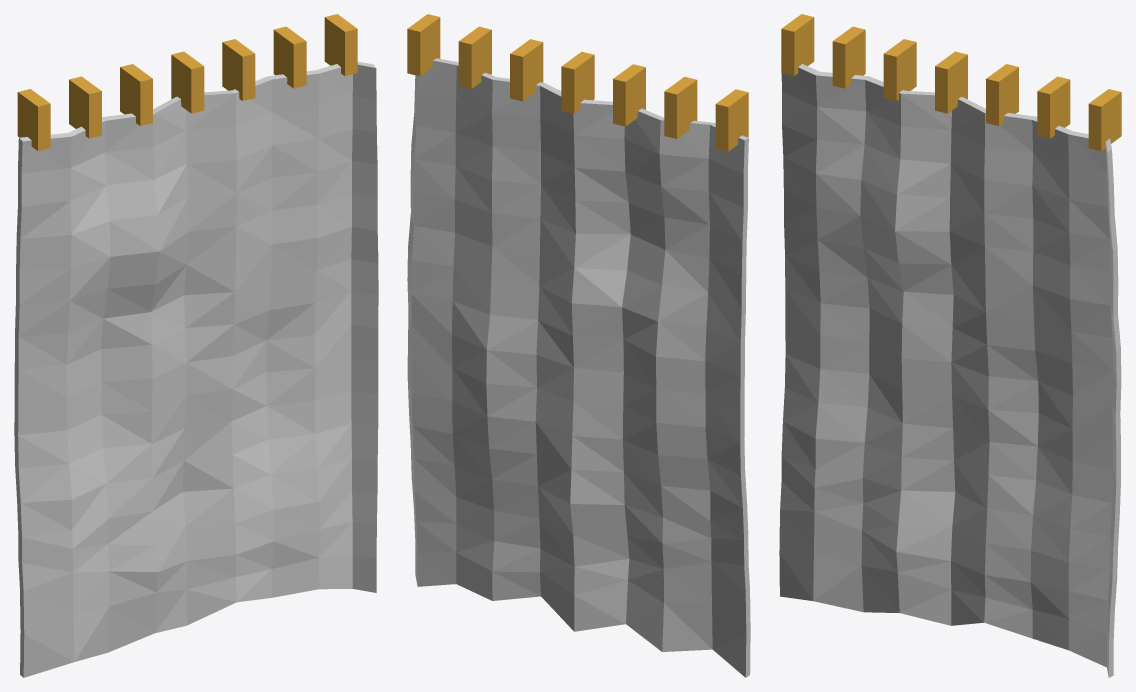
The model's file is curtain1.fbx.
3 renders of one model, left to right at view 1: azimuth 30°, elevation 25°; view 2: azimuth 150°, elevation 25°; view 3: azimuth 330°, elevation 25°, orthographic.
Visible parts, largest first — view 1: Cube.099; view 2: Cube.099; view 3: Cube.099.
Part boxes in pixels (<box>): Cube.099: <box>14,14,378,677</box>; Cube.099: <box>407,14,750,677</box>; Cube.099: <box>779,14,1121,677</box>.
Bounding box in the file's own units: 307 × 486 × 40.69.
